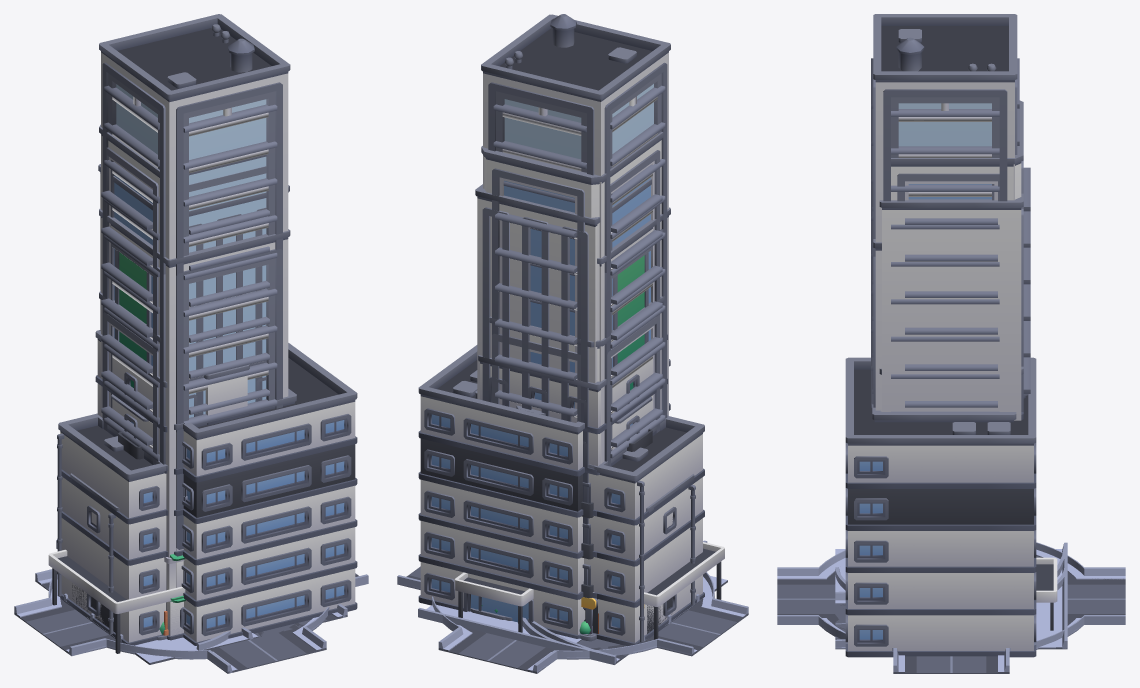
File: city.glb
The picture shows the model from 3 angles, left to right: view 1: azimuth 30°, elevation 25°; view 2: azimuth 150°, elevation 25°; view 3: azimuth 270°, elevation 25°; orthographic projection. The views are drawn at different scales.
Parts seen in each view (by area): view 1: building-n, building-skyscraper-d, building-skyscraper-c, building-j, building-skyscraper-b, road-roundabout, building-skyscraper-e, building-k, building-skyscraper-a, road-roundabout-barrier, building-m, building-l (+2 smaller); view 2: building-n, building-skyscraper-d, building-skyscraper-b, building-j, building-skyscraper-e, building-m, road-roundabout, building-skyscraper-a, building-skyscraper-c, road-roundabout-barrier, road-curve-intersection-barrier, building-k (+2 smaller); view 3: building-n, building-skyscraper-d, building-skyscraper-e, building-skyscraper-b, road-roundabout, building-skyscraper-c, road-roundabout-barrier, building-l, road-curve-pavement, building-skyscraper-a, road-curve-intersection-barrier.
Part boxes in pixels (left/top/right/bottom): building-n: left=48, top=343, right=357, bottom=653; building-skyscraper-d: left=99, top=14, right=290, bottom=636; building-skyscraper-c: left=99, top=208, right=290, bottom=589; building-j: left=57, top=413, right=167, bottom=645; building-skyscraper-b: left=99, top=124, right=269, bottom=454; road-roundabout: left=14, top=547, right=367, bottom=673; building-skyscraper-e: left=98, top=164, right=289, bottom=421; building-k: left=70, top=473, right=119, bottom=634; building-skyscraper-a: left=99, top=290, right=269, bottom=464; road-roundabout-barrier: left=14, top=540, right=368, bottom=673; building-m: left=95, top=330, right=266, bottom=551; building-l: left=118, top=388, right=296, bottom=635; building-n: left=418, top=345, right=724, bottom=639; building-skyscraper-d: left=481, top=14, right=670, bottom=461; building-skyscraper-b: left=481, top=132, right=663, bottom=634; building-j: left=581, top=416, right=704, bottom=646; building-skyscraper-e: left=475, top=179, right=652, bottom=633; building-m: left=478, top=334, right=667, bottom=638; road-roundabout: left=397, top=566, right=748, bottom=673; building-skyscraper-a: left=489, top=296, right=664, bottom=625; building-skyscraper-c: left=530, top=207, right=670, bottom=463; road-roundabout-barrier: left=397, top=540, right=748, bottom=672; road-curve-intersection-barrier: left=418, top=608, right=614, bottom=664; building-k: left=644, top=474, right=695, bottom=633; building-n: left=845, top=357, right=1057, bottom=657; building-skyscraper-d: left=871, top=14, right=1019, bottom=412; building-skyscraper-e: left=879, top=193, right=1023, bottom=420; building-skyscraper-b: left=872, top=100, right=1030, bottom=407; road-roundabout: left=777, top=549, right=1125, bottom=673; building-skyscraper-c: left=871, top=239, right=999, bottom=412; road-roundabout-barrier: left=777, top=542, right=1125, bottom=671; building-l: left=872, top=394, right=1027, bottom=422; road-curve-pavement: left=835, top=549, right=1062, bottom=649; building-skyscraper-a: left=872, top=325, right=1030, bottom=403; road-curve-intersection-barrier: left=1062, top=542, right=1067, bottom=649.
Bounding box in the file's own units: 3 × 5.54 × 3.
3 materials, 3 textured.
